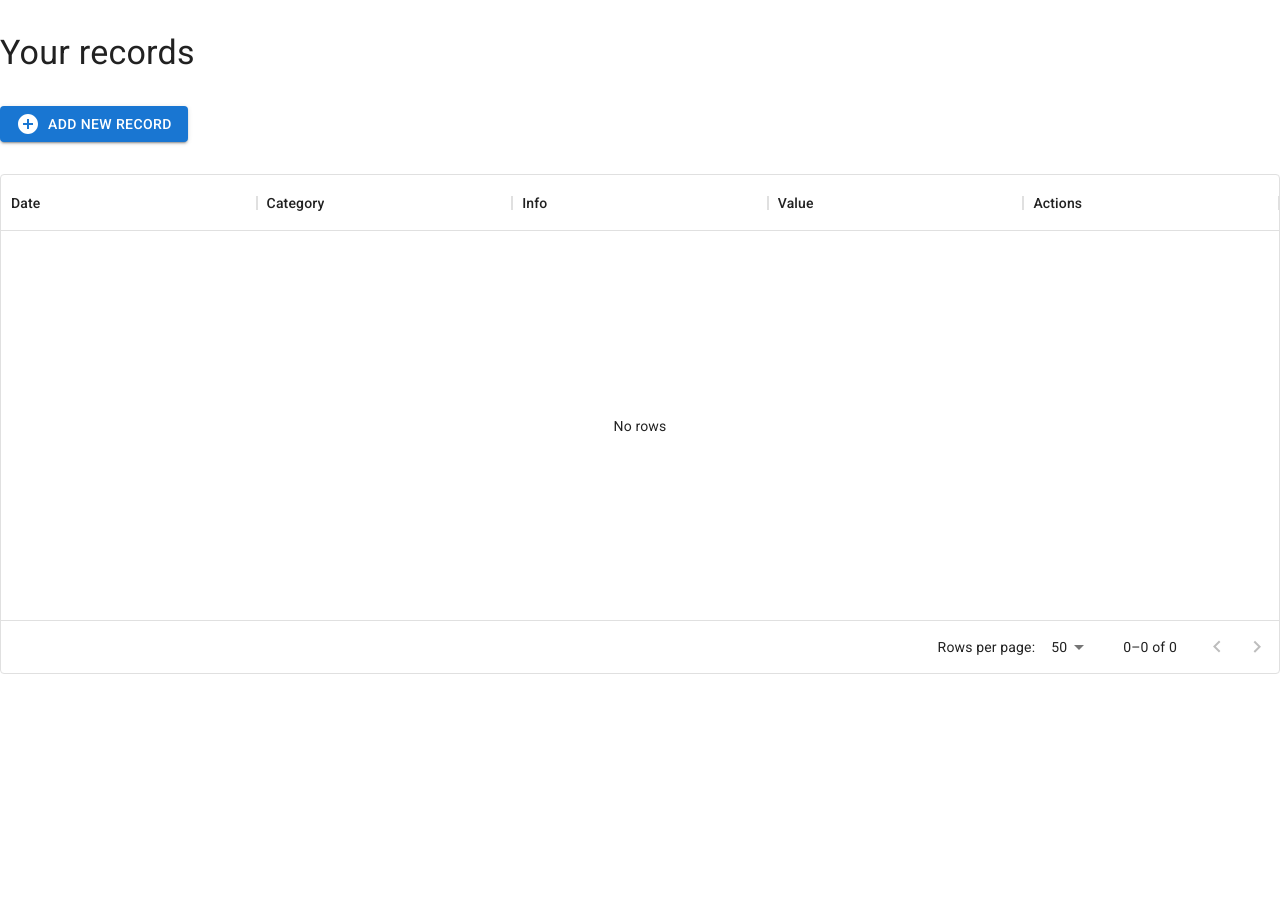
MoneyRecordDashboard › Add Money Record Dialog › should open dialog when add button is clicked
The image size is (1280, 900).
What coordinates should you click on to do the following:
click the button "Add new record"
I would click on:
 (94, 124)
Its box is [0,106,188,142].
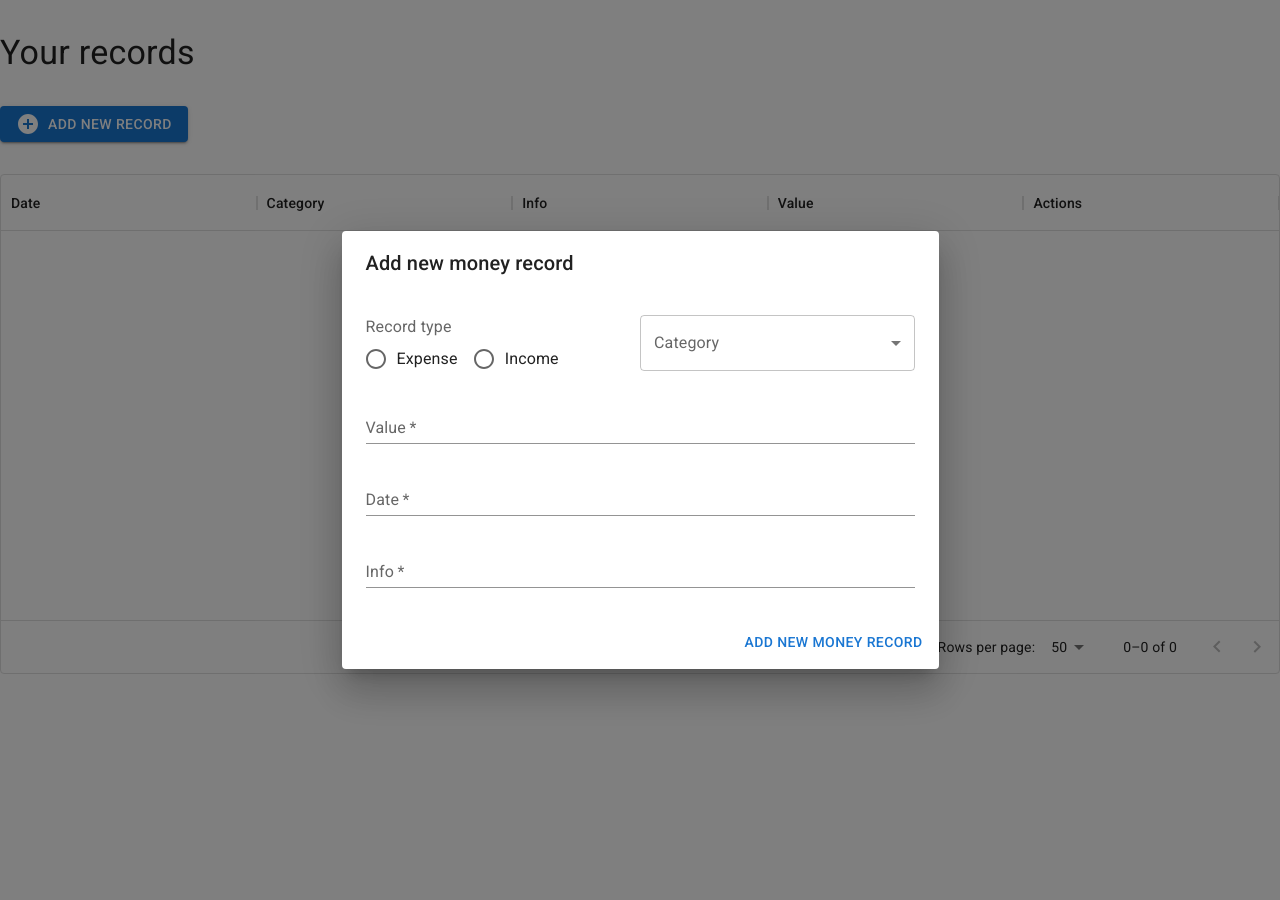
Expected: the dialog is shown, [342,231,938,669]
